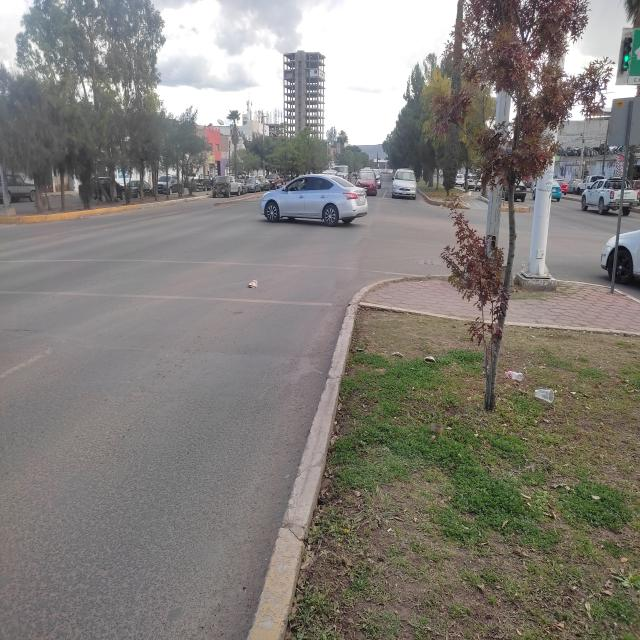Auto: (252, 152, 372, 236), (575, 178, 640, 218), (598, 227, 640, 285), (387, 161, 425, 209), (211, 172, 247, 207), (355, 159, 381, 201), (500, 174, 531, 209)
